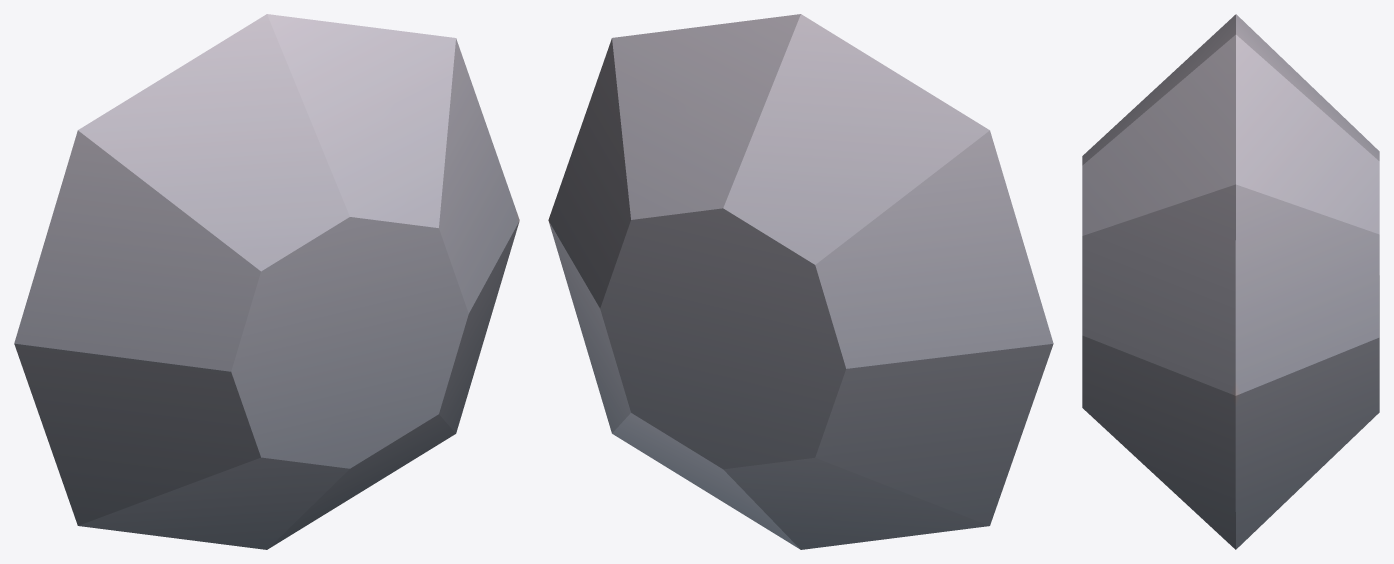
Rendered from Hexagon.fbx.
3 renders of one model, left to right at view 1: azimuth 30°, elevation 25°; view 2: azimuth 150°, elevation 25°; view 3: azimuth 270°, elevation 25°, orthographic. The views are drawn at different scales.
Parts seen in each view (by area): view 1: Hexagon; view 2: Hexagon; view 3: Hexagon.
Part boxes in pixels (box(x1,y1,x2,y2)): Hexagon: box(14, 14, 519, 549); Hexagon: box(548, 14, 1053, 549); Hexagon: box(1082, 14, 1379, 549).
Size of the model in its own units: 252 by 255 by 139.
